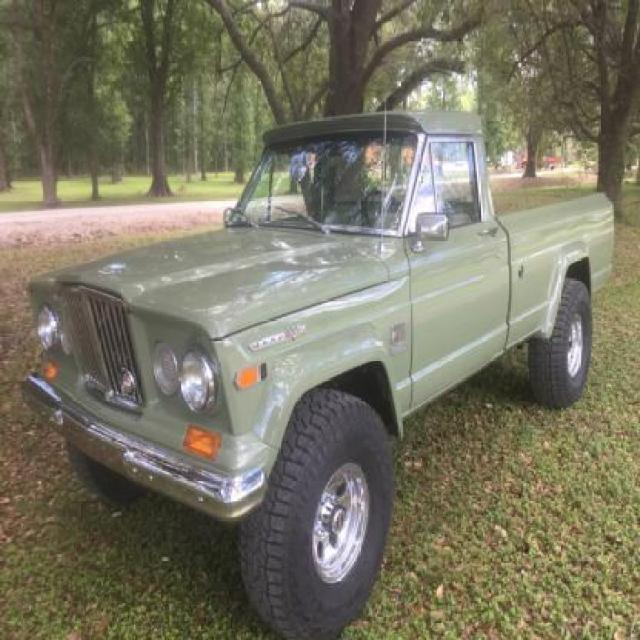Jeep: (28, 101, 612, 635)
